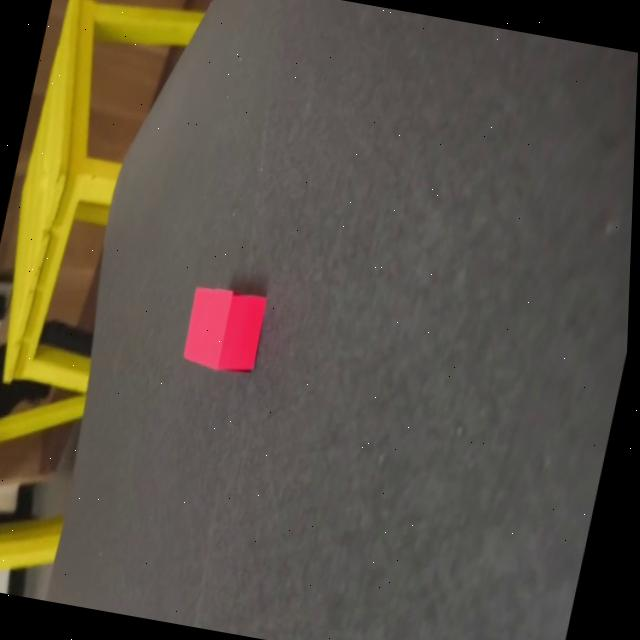red block: (178, 280, 270, 376)
